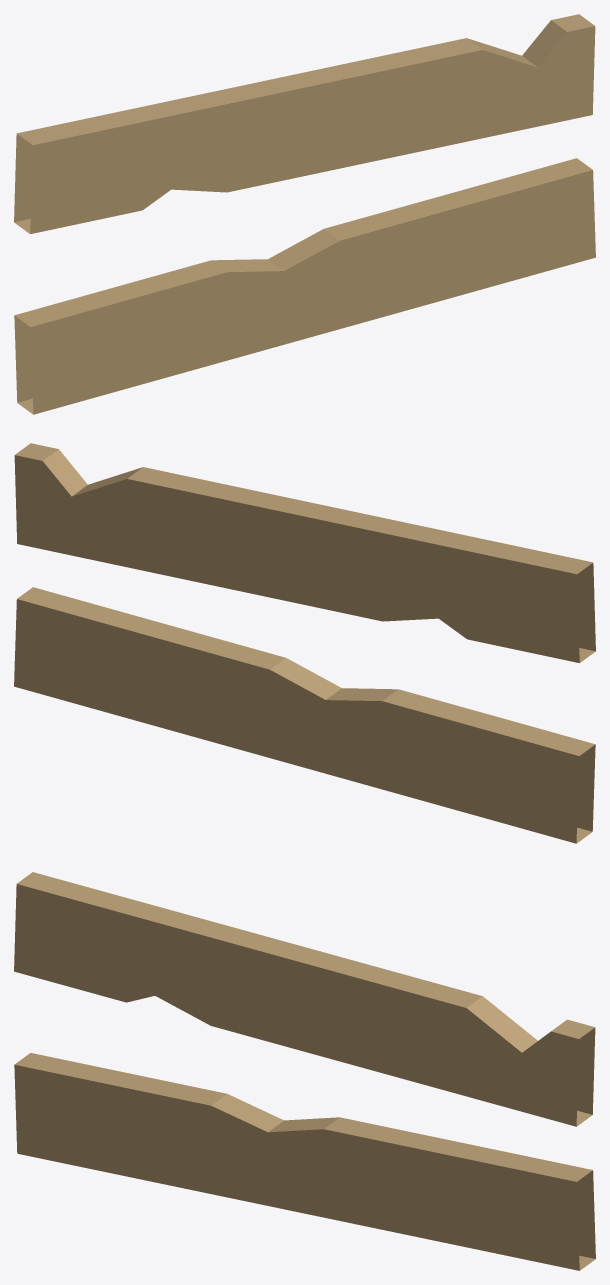
Rendered from Hilly_Prop_Fence_Boards_3.fbx.
3 renders of one model, top to bottom at view 1: azimuth 30°, elevation 25°; view 2: azimuth 150°, elevation 25°; view 3: azimuth 330°, elevation 25°, orthographic.
Parts seen in each view (by area): view 1: object2, object1; view 2: object2, object1; view 3: object2, object1.
Boxes of the visible parts, left/top/right/bottom form: object2: left=14, top=158, right=595, bottom=414; object1: left=14, top=14, right=595, bottom=234; object2: left=14, top=587, right=595, bottom=843; object1: left=14, top=443, right=595, bottom=663; object2: left=14, top=1053, right=595, bottom=1270; object1: left=14, top=872, right=595, bottom=1126.
Size of the model in its own units: 1.01 by 0.4578 by 0.05.
